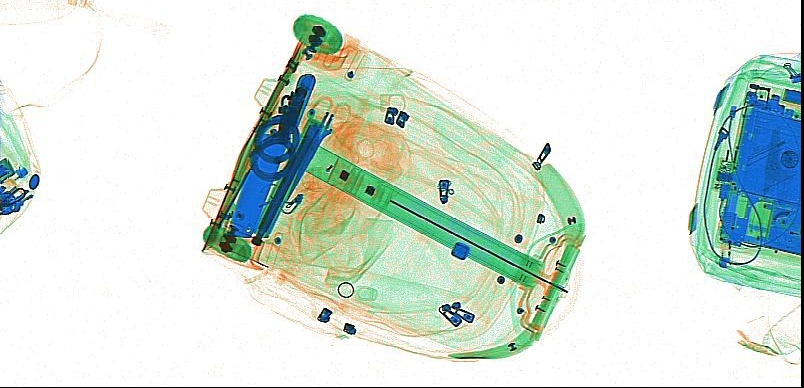handcuffs: (245, 83, 307, 182)
knife: (222, 71, 317, 239), (214, 120, 282, 227)
scissors: (281, 93, 350, 205)
